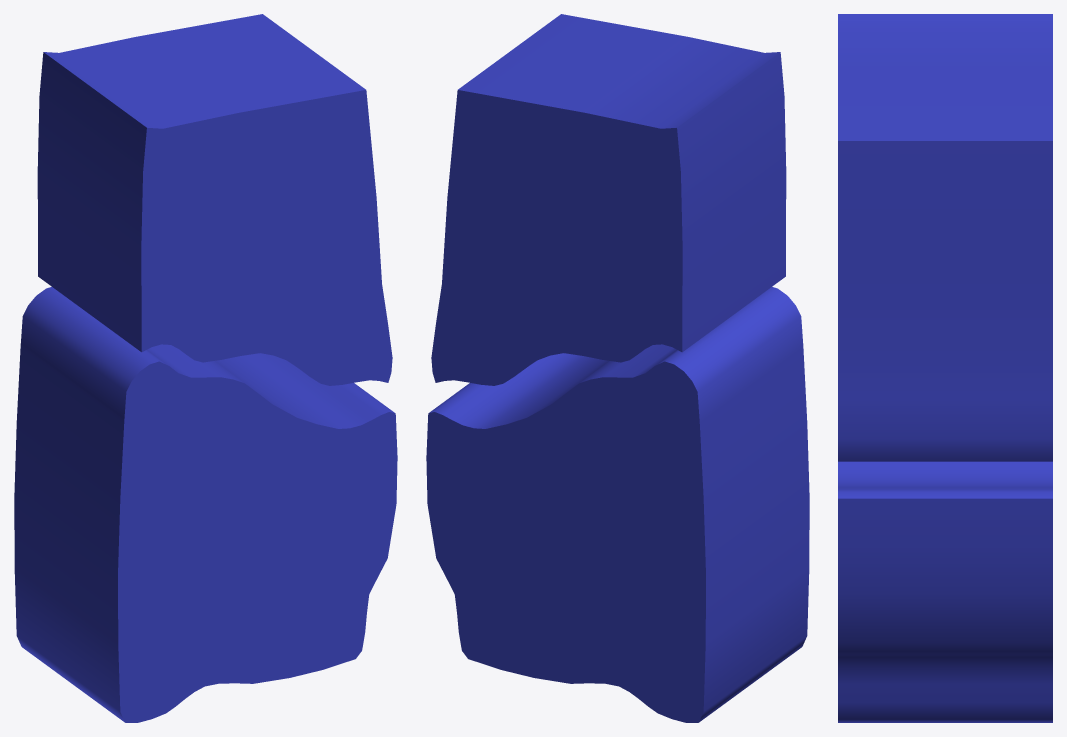
The model's file is carta.fbx.
The picture shows the model from 3 angles, left to right: view 1: azimuth 30°, elevation 25°; view 2: azimuth 150°, elevation 25°; view 3: azimuth 270°, elevation 25°; orthographic projection. The views are drawn at different scales.
Parts seen in each view (by area): view 1: root (×2); view 2: root (×2); view 3: root (×2).
Part boxes in pixels (bbox=[...]): root (×2): bbox=[14, 14, 397, 722]; root (×2): bbox=[426, 14, 809, 722]; root (×2): bbox=[838, 14, 1052, 722].
Bounding box in the file's own units: 0.1557 × 0.3157 × 0.1.
